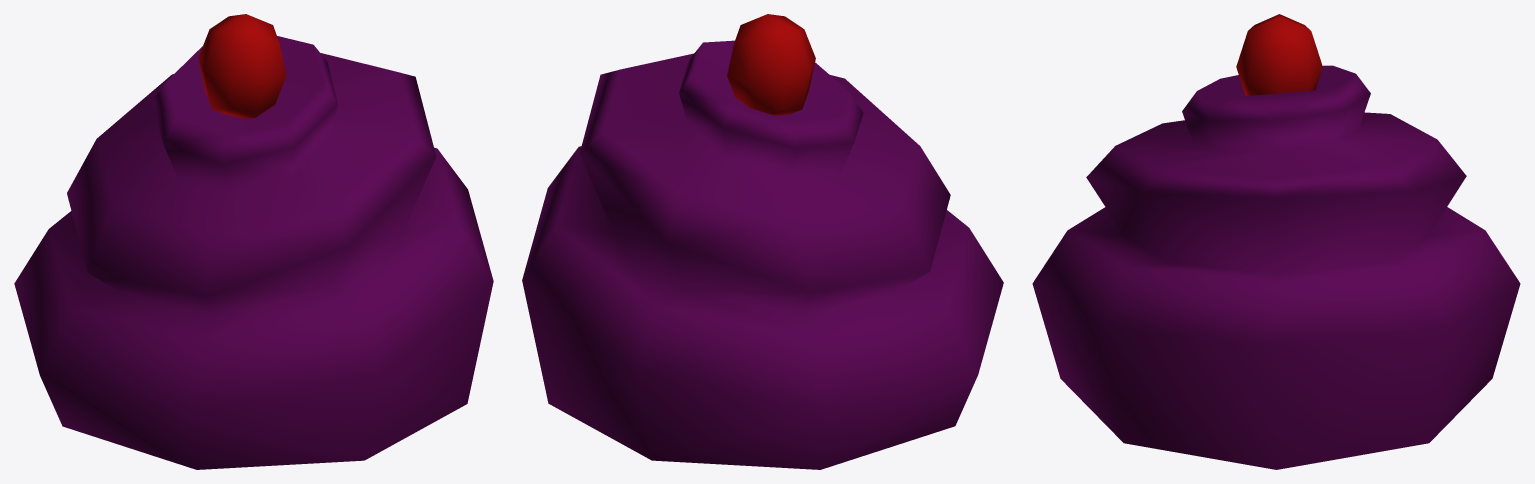
File: Topping01.fbx
3 views of the same model, side by side, from view 1: azimuth 30°, elevation 25°; view 2: azimuth 150°, elevation 25°; view 3: azimuth 270°, elevation 25° (orthographic). The views are drawn at different scales.
Visible parts, largest first — view 1: Topping_01; view 2: Topping_01; view 3: Topping_01.
Boxes of the visible parts, <box> form: Topping_01: <box>14,14,493,469</box>; Topping_01: <box>522,14,1003,469</box>; Topping_01: <box>1032,14,1520,469</box>.
Size of the model in its own units: 2.26 by 1.85 by 2.28.
